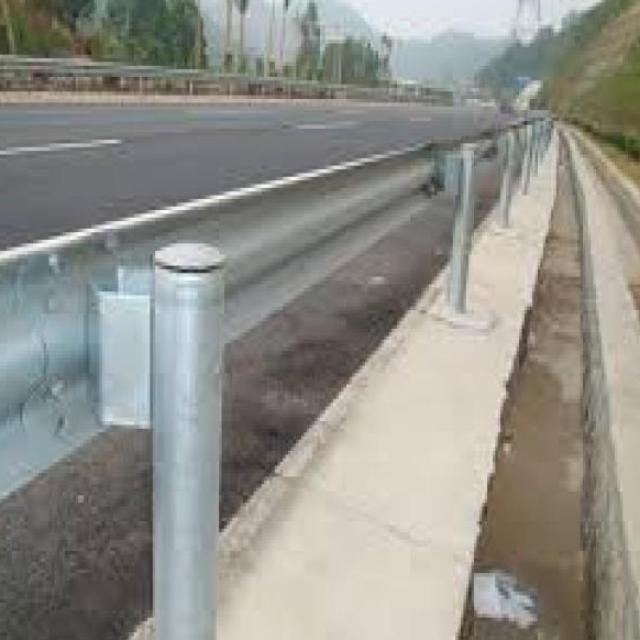Guard rail: (0, 147, 434, 499)
